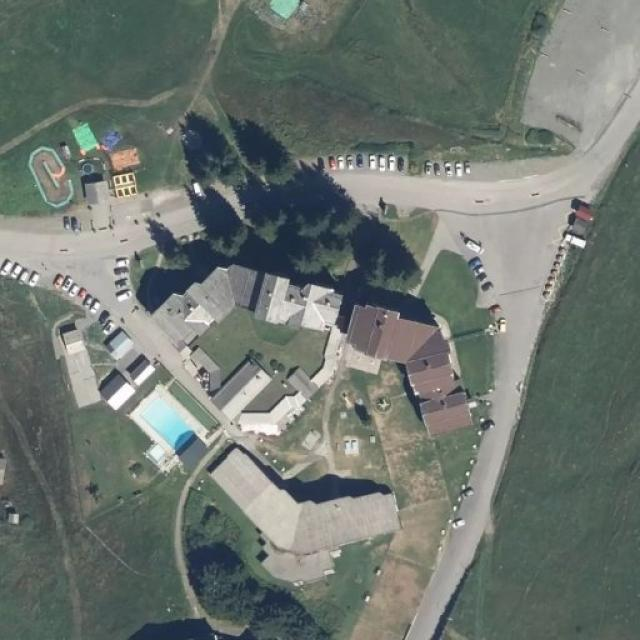maison: (152, 245, 337, 347), (345, 284, 473, 428)
piscine: (131, 380, 197, 454)
usine: (214, 444, 400, 582), (197, 317, 333, 440)
